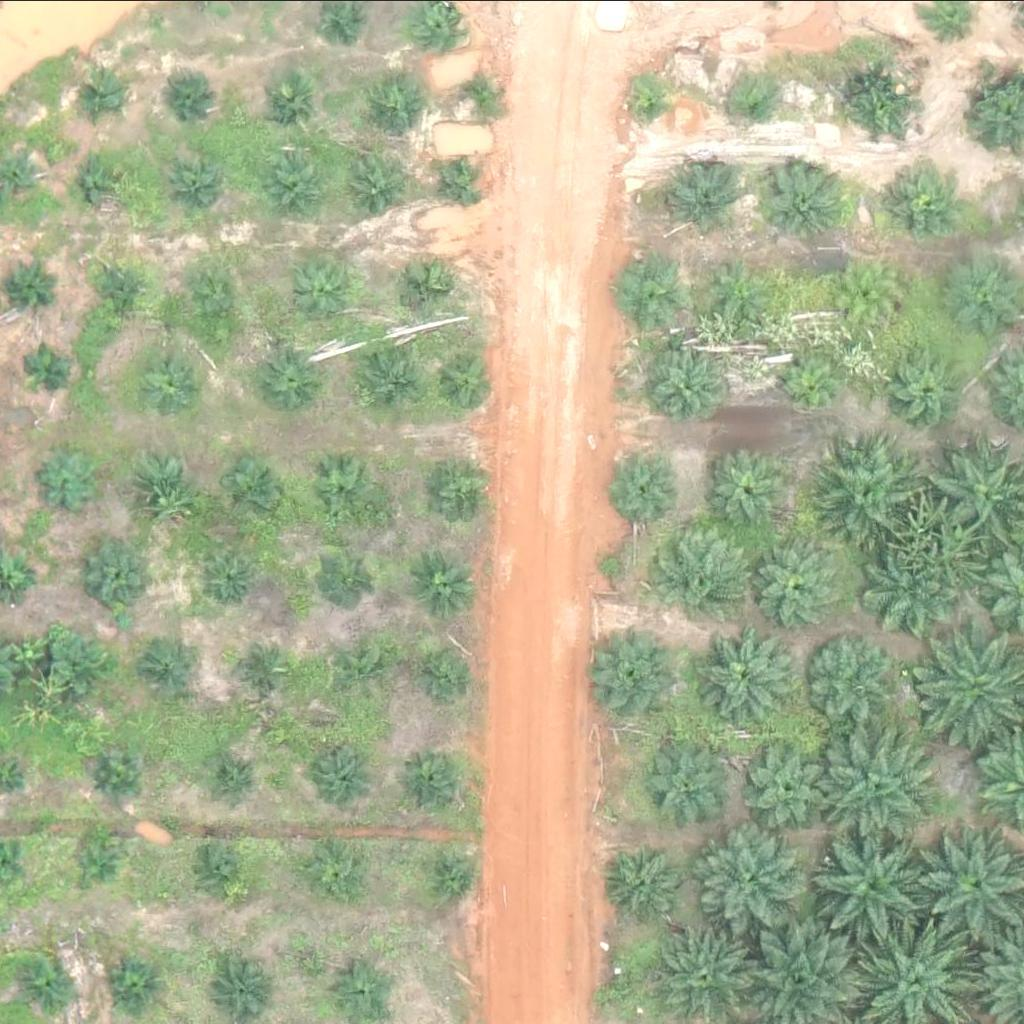Kelapa_Sawit: (807, 717, 933, 842), (811, 823, 937, 948), (695, 820, 808, 933), (819, 445, 919, 545), (655, 523, 755, 623), (688, 628, 788, 728), (805, 634, 893, 722), (589, 626, 677, 714), (745, 745, 833, 833), (662, 929, 750, 1017), (755, 538, 844, 625), (862, 550, 950, 637), (644, 339, 732, 426), (701, 444, 789, 531), (645, 747, 733, 834), (666, 161, 742, 236), (611, 451, 687, 526), (847, 70, 923, 145), (763, 161, 839, 236), (890, 353, 965, 428), (610, 845, 685, 920), (881, 169, 956, 244), (210, 956, 273, 1019), (193, 269, 256, 332), (169, 154, 232, 217), (86, 542, 149, 605), (413, 555, 476, 618), (266, 156, 329, 219), (396, 746, 459, 809), (303, 835, 366, 898), (414, 845, 477, 908), (311, 459, 374, 522), (418, 461, 481, 524), (318, 545, 381, 608), (435, 349, 498, 412), (616, 260, 679, 323), (362, 69, 425, 132), (347, 155, 410, 218), (838, 264, 901, 327), (193, 839, 255, 902), (225, 459, 288, 521), (140, 348, 203, 410), (38, 449, 101, 511), (357, 346, 420, 408), (331, 634, 394, 696), (261, 349, 324, 411), (712, 255, 775, 317), (299, 260, 362, 322), (397, 255, 460, 317), (257, 70, 320, 132), (51, 631, 114, 693), (138, 453, 201, 515), (413, 639, 475, 701), (778, 356, 840, 418), (318, 743, 380, 805), (432, 155, 483, 205), (453, 69, 504, 119), (109, 960, 159, 1010), (23, 954, 73, 1004), (338, 967, 388, 1017), (219, 748, 269, 798), (151, 646, 201, 696), (244, 638, 294, 688), (207, 555, 257, 605), (91, 752, 141, 802), (168, 66, 218, 116), (24, 341, 74, 391), (71, 834, 121, 884), (79, 156, 129, 206), (78, 70, 128, 120), (627, 76, 677, 126), (734, 80, 784, 130), (103, 262, 153, 312)
